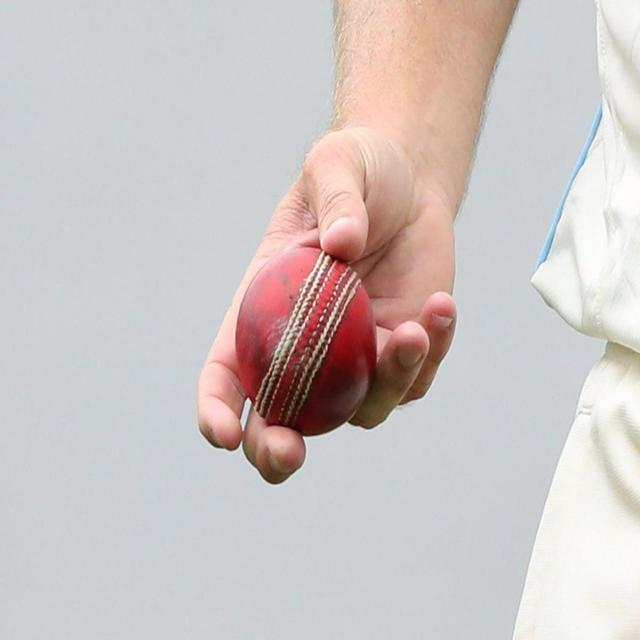ball: (235, 251, 376, 443)
